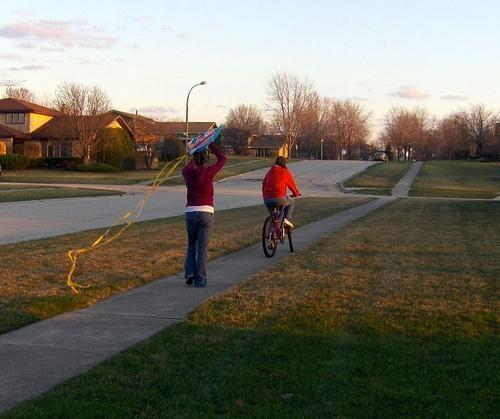bicycle: (262, 203, 294, 257)
car: (372, 152, 388, 162), (362, 155, 372, 161)
